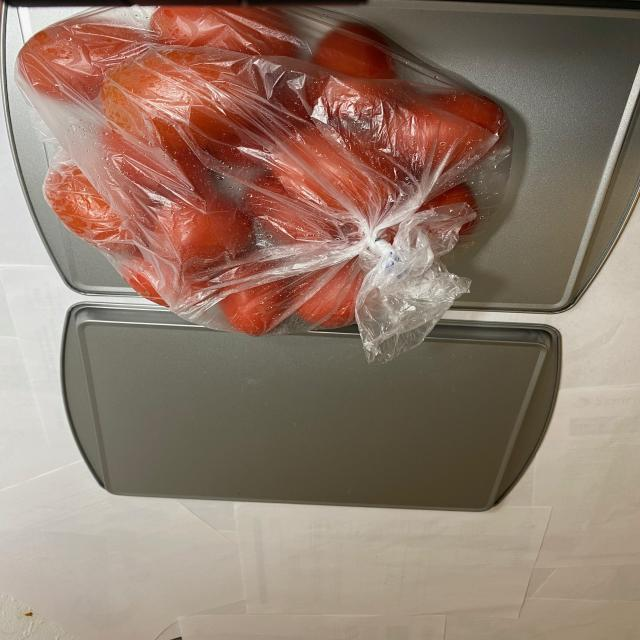tomato: (6, 24, 498, 329)
